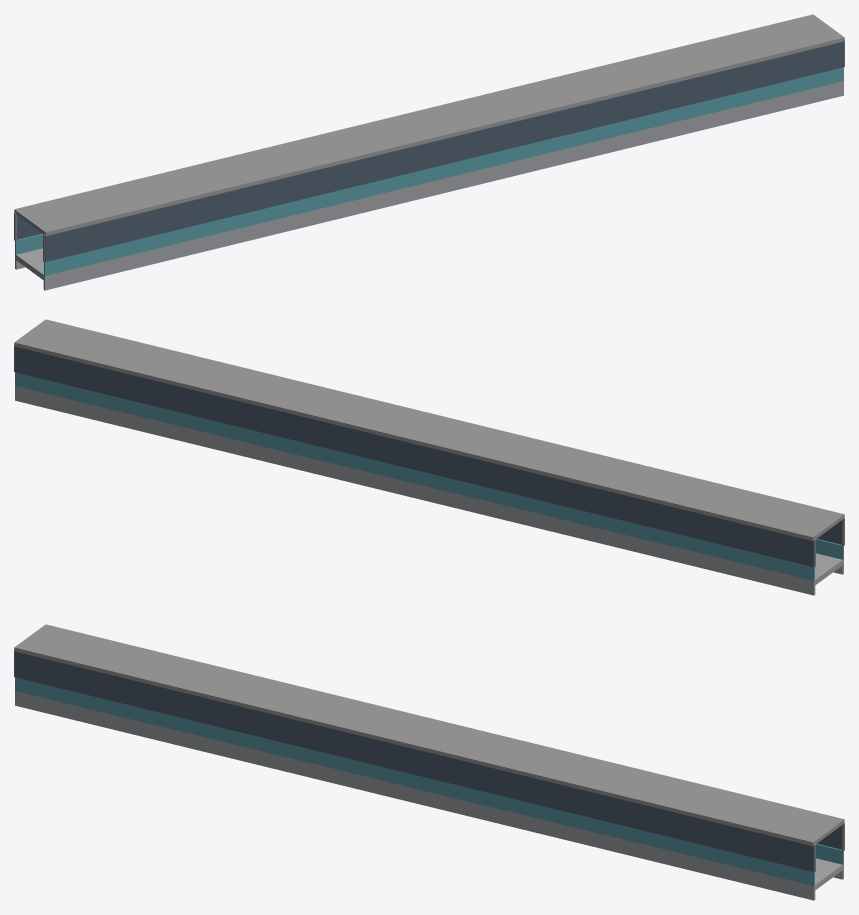
The model's file is hosp-bridge-54.mega-v1.lod1.glb.
3 views of the same model, one above another, from view 1: azimuth 30°, elevation 25°; view 2: azimuth 150°, elevation 25°; view 3: azimuth 330°, elevation 25° (orthographic).
Parts seen in each view (by area): view 1: hosp-bridge-54; view 2: hosp-bridge-54; view 3: hosp-bridge-54.
Boxes of the visible parts, <box> form: hosp-bridge-54: <box>14,14,844,290</box>; hosp-bridge-54: <box>14,319,844,595</box>; hosp-bridge-54: <box>14,624,844,900</box>.
Bounding box in the file's own units: 54.12 × 3.8 × 3.7.
